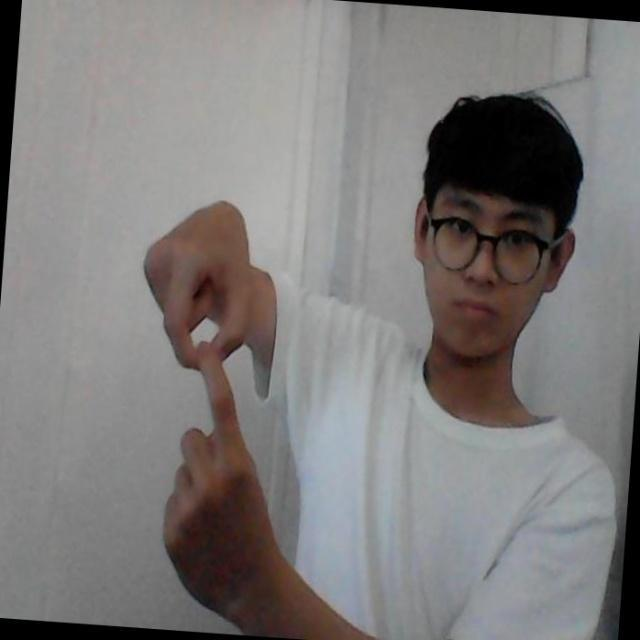Q: (139, 189, 277, 640)
